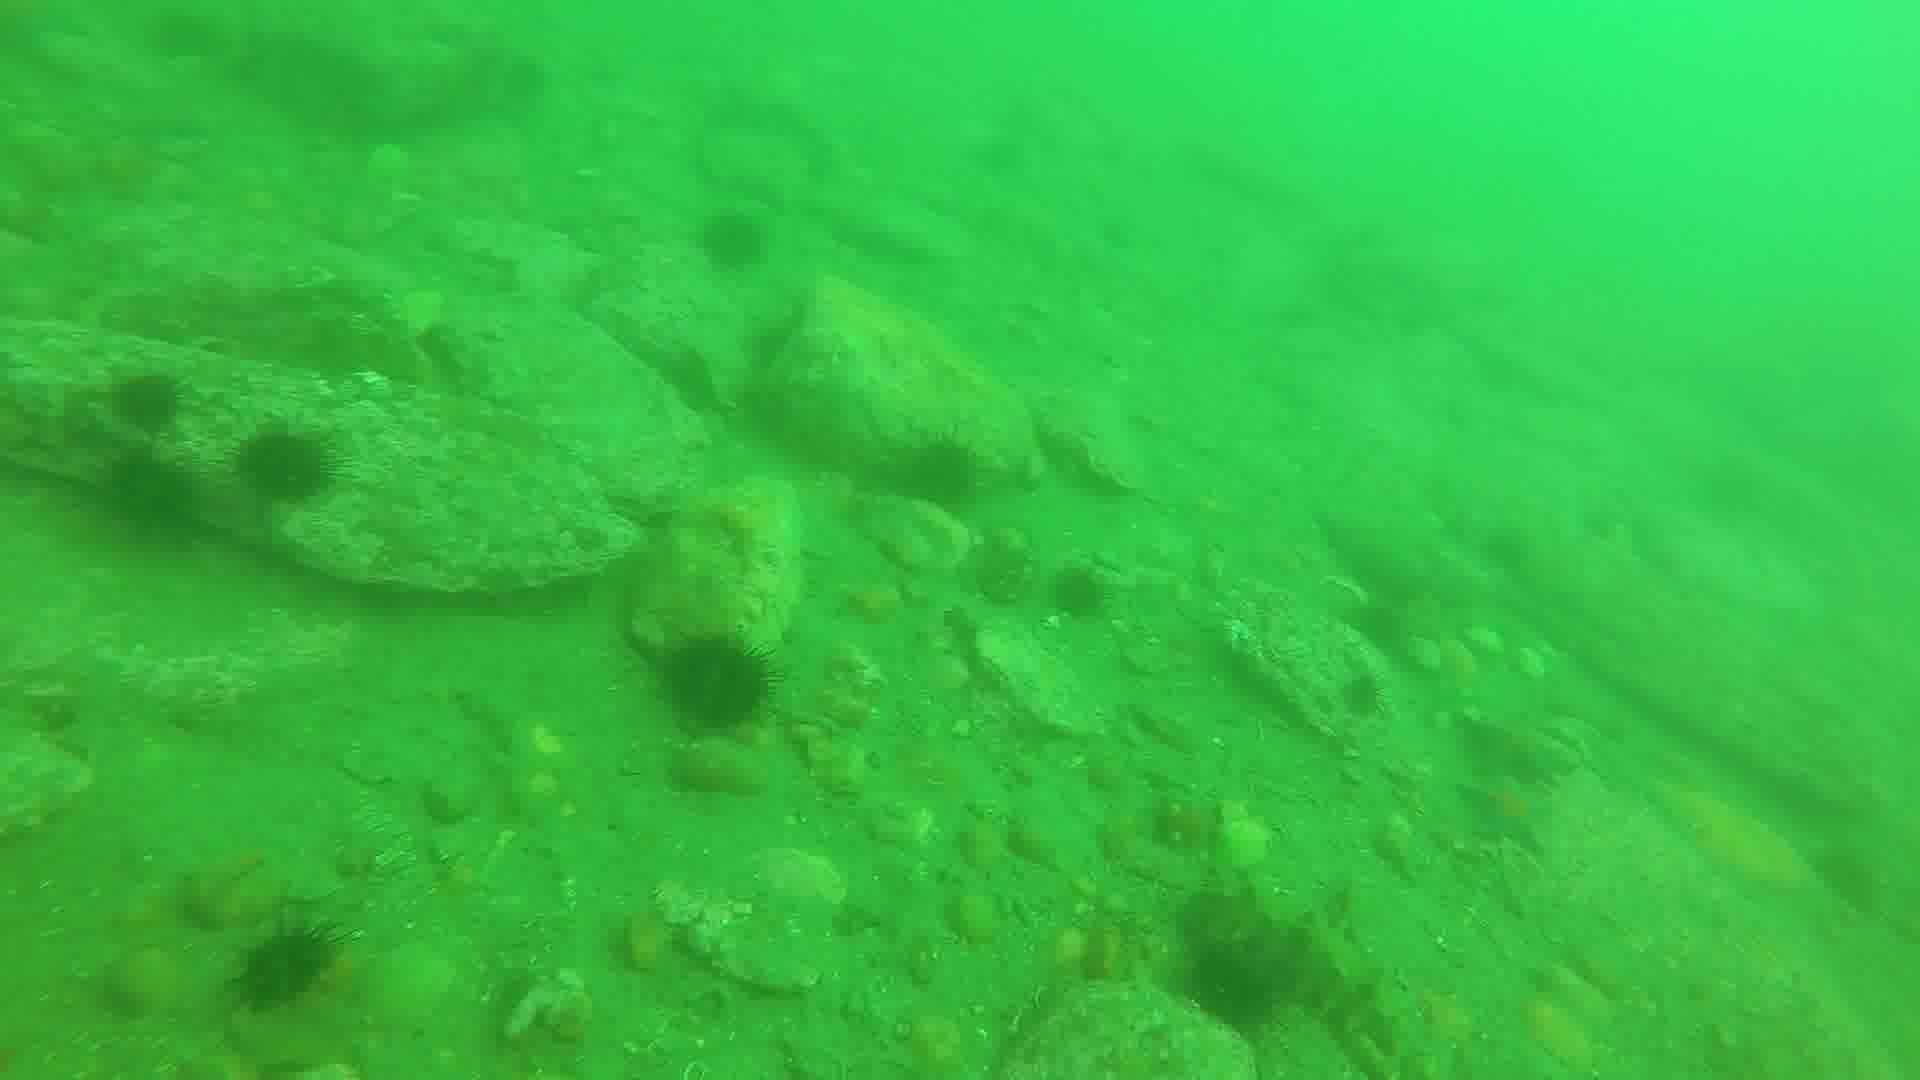echinus: (655, 628, 778, 736), (228, 918, 342, 1015), (94, 447, 202, 543), (231, 421, 339, 510), (1178, 942, 1279, 1036), (891, 433, 984, 517), (963, 527, 1036, 611), (105, 367, 189, 438), (1807, 843, 1884, 916), (694, 206, 771, 276), (1043, 560, 1116, 626), (1341, 595, 1412, 657), (1333, 666, 1391, 725)
holothurian: (1193, 877, 1411, 1065)
starfish: (1647, 771, 1840, 924), (1455, 705, 1578, 790), (1455, 767, 1559, 855)
